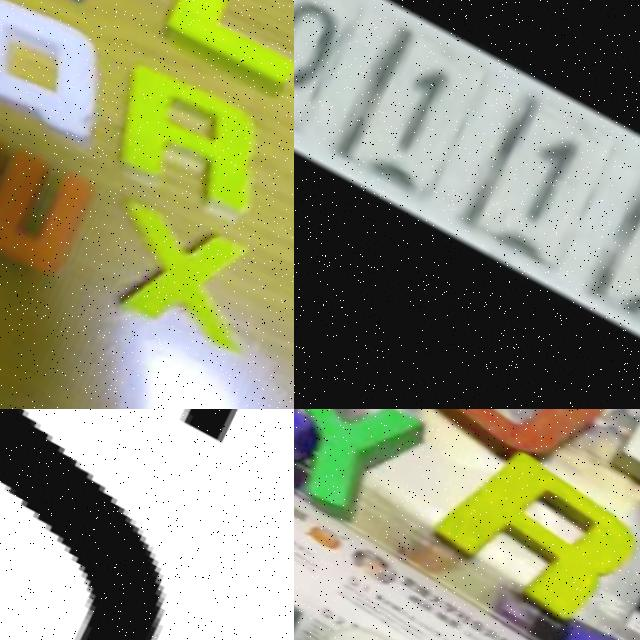0: (294, 0, 352, 100)
1: (352, 36, 473, 167), (486, 107, 597, 233)
7: (608, 164, 640, 309)
L: (139, 0, 294, 104)
O: (403, 409, 623, 487)
Q: (0, 0, 134, 156)
R: (419, 429, 640, 632), (90, 47, 289, 226)
S: (0, 409, 294, 640)
W: (0, 108, 100, 280)
X: (73, 182, 275, 364)
Y: (294, 409, 429, 538)
